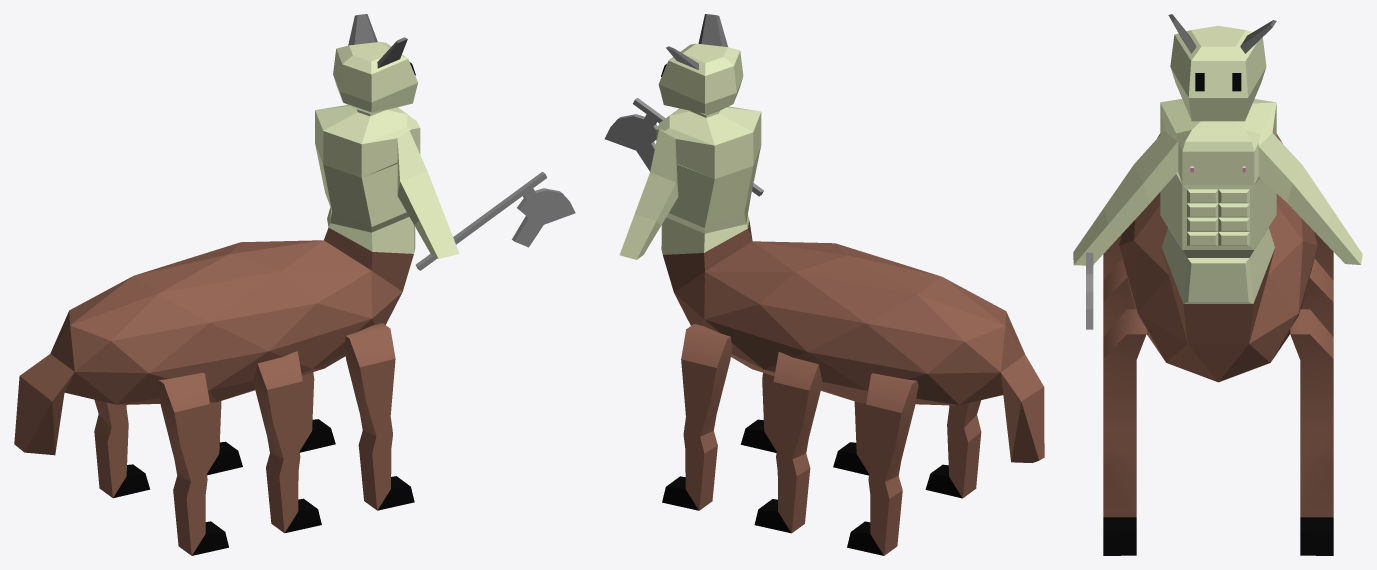
File: CentaurModel.fbx
The picture shows the model from 3 angles, left to right: view 1: azimuth 30°, elevation 25°; view 2: azimuth 150°, elevation 25°; view 3: azimuth 270°, elevation 25°; orthographic projection. The views are drawn at different scales.
Visible parts, largest first — view 1: CentaurModel; view 2: CentaurModel; view 3: CentaurModel.
Boxes of the visible parts, <box> form: CentaurModel: <box>14,14,575,555</box>; CentaurModel: <box>604,14,1044,555</box>; CentaurModel: <box>1073,14,1362,555</box>.
Size of the model in its own units: 767 by 648 by 310.
